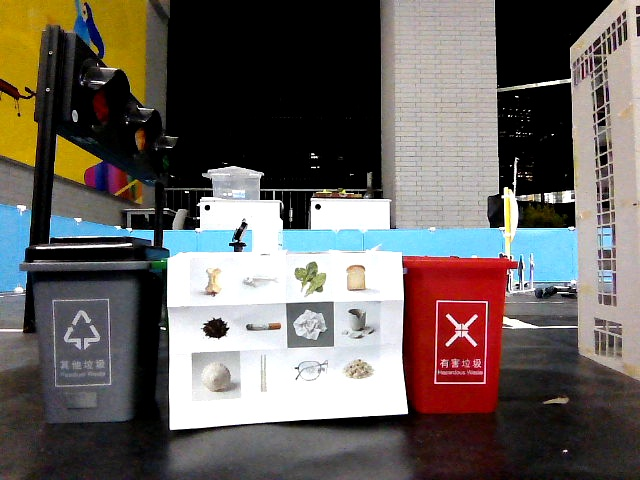food_trash: (286, 258, 334, 302), (190, 259, 235, 304), (191, 308, 238, 350), (237, 260, 282, 302), (336, 348, 382, 388), (335, 259, 381, 299)
other_trash: (193, 354, 239, 398), (238, 307, 286, 349), (335, 302, 379, 347), (241, 352, 284, 395), (287, 348, 333, 388), (289, 304, 332, 344)
